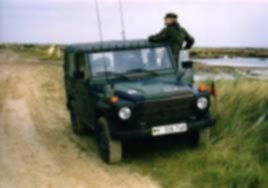license_plate: (152, 125, 187, 133)
